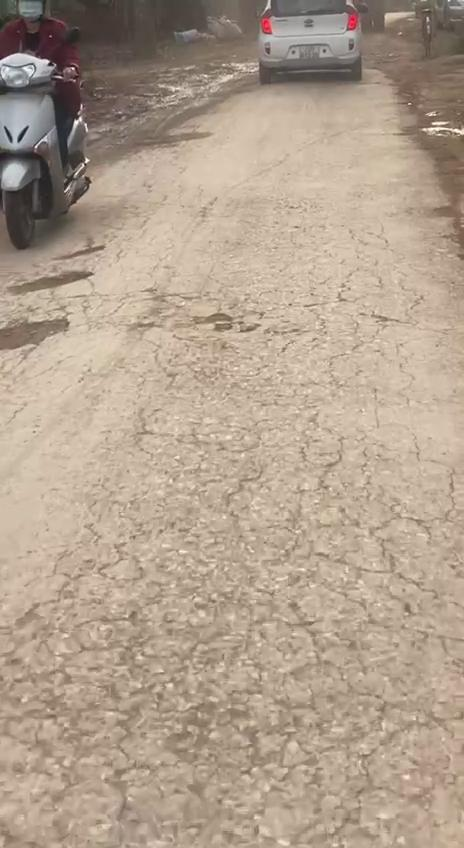pothole: (0, 314, 75, 352), (4, 266, 92, 298)
